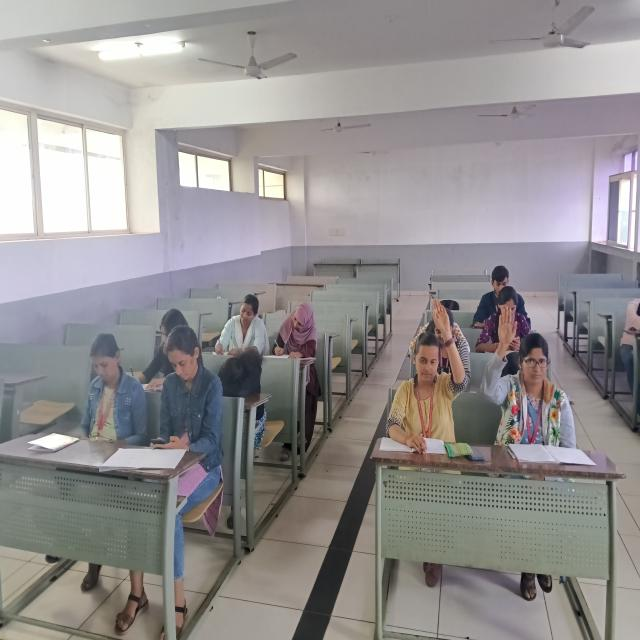Hand Rising: (474, 302, 603, 478), (370, 288, 474, 478)
Using Phone: (114, 319, 228, 639)
Writing: (270, 292, 338, 466), (214, 291, 268, 360)
